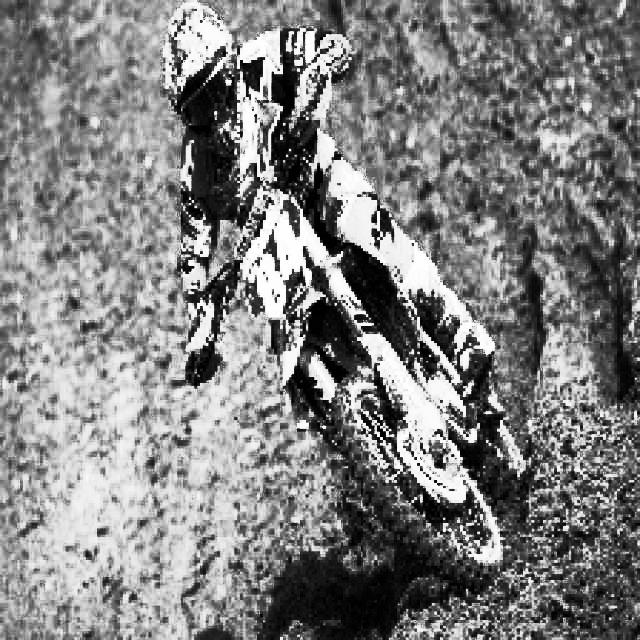Bike: (215, 179, 544, 589)
